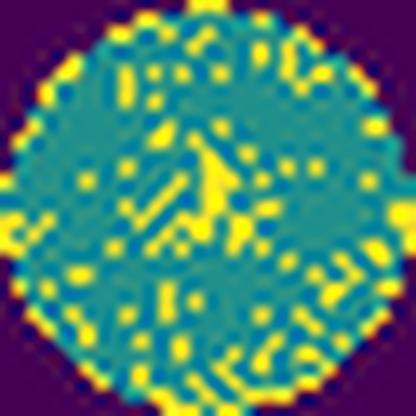Center: (141, 131, 247, 265)
